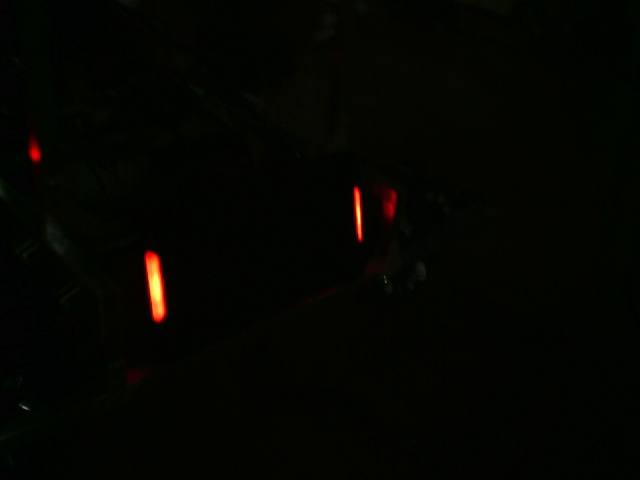lamp: (141, 246, 171, 325), (349, 182, 368, 246)
